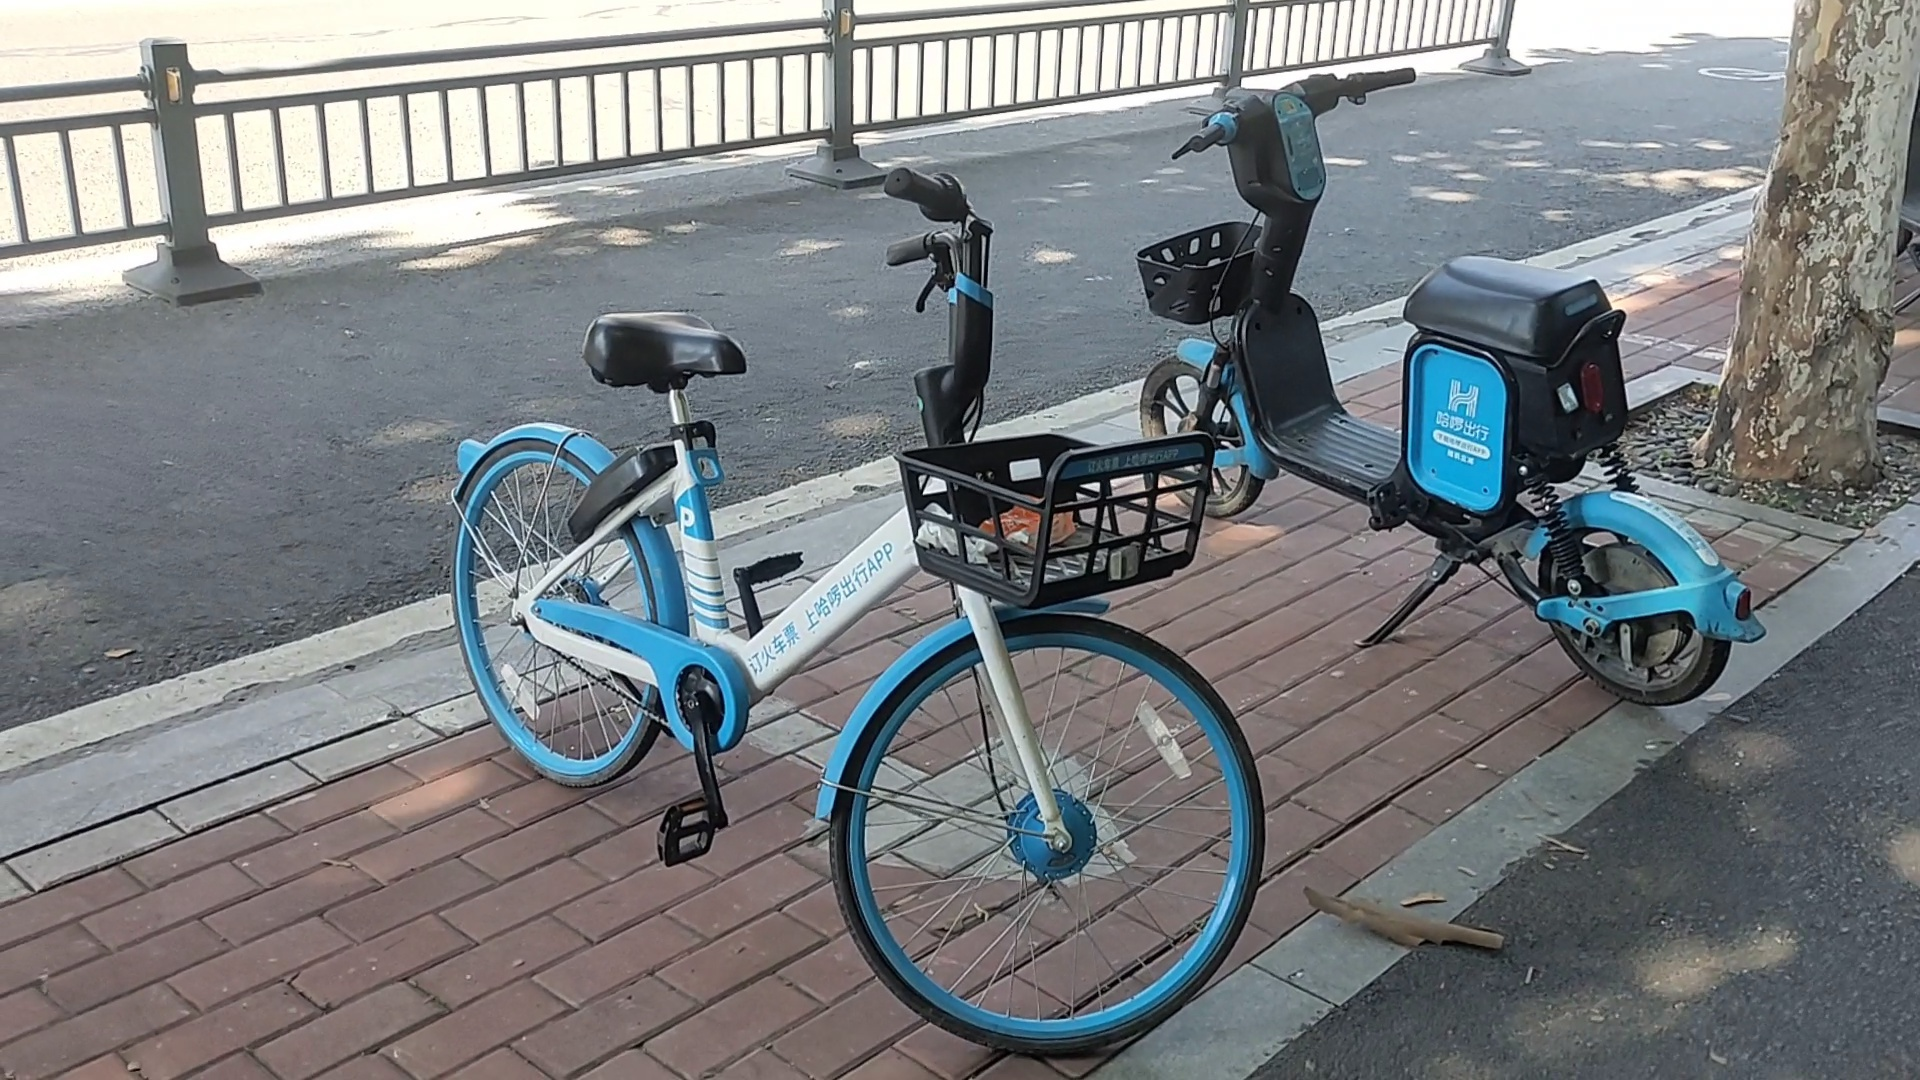non-vehicle: (446, 109, 1251, 1073), (1135, 37, 1764, 704)
